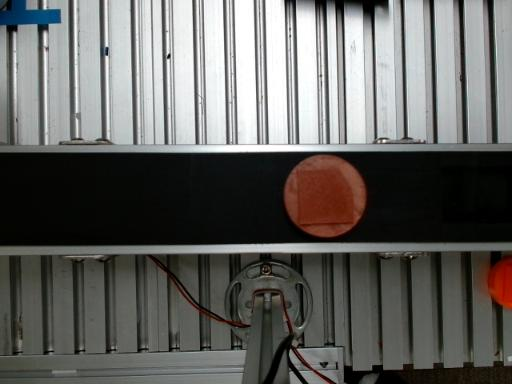Brown_Waper: (284, 155, 366, 238)
Not_Square: (296, 168, 355, 225)
